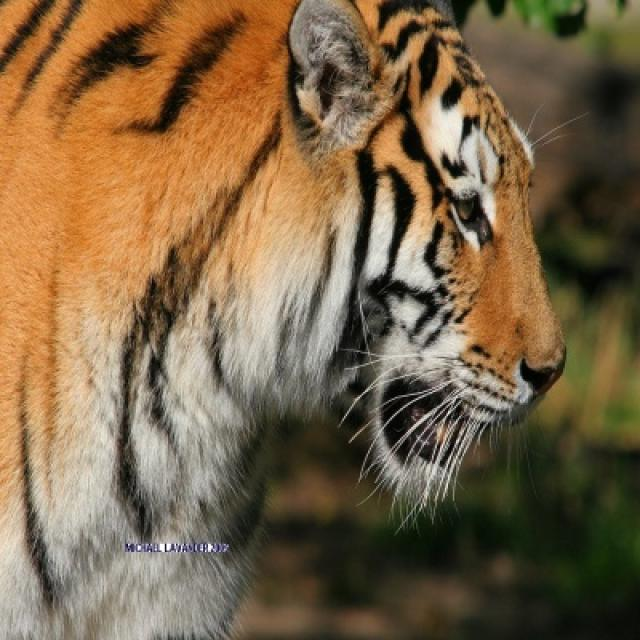Tiger: (0, 0, 563, 638)
